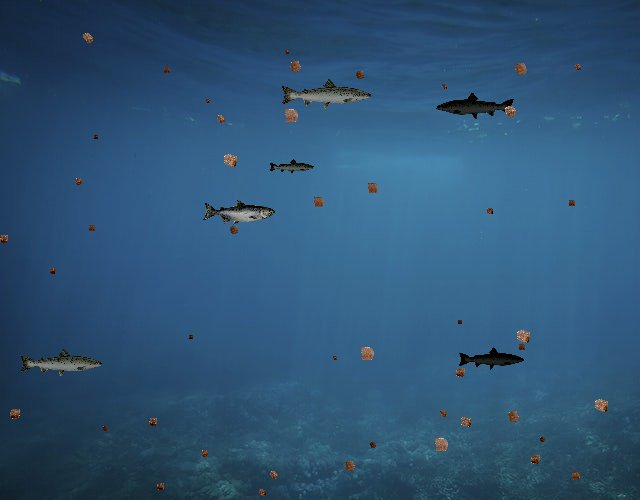Fish: (279, 77, 373, 111), (18, 347, 104, 378), (435, 91, 516, 121), (202, 200, 275, 226), (458, 346, 526, 370), (268, 159, 315, 176)
Pellet: (508, 56, 534, 82), (498, 99, 523, 124), (76, 27, 98, 49), (351, 66, 368, 84), (482, 204, 497, 218), (536, 434, 549, 447), (202, 96, 212, 106)
